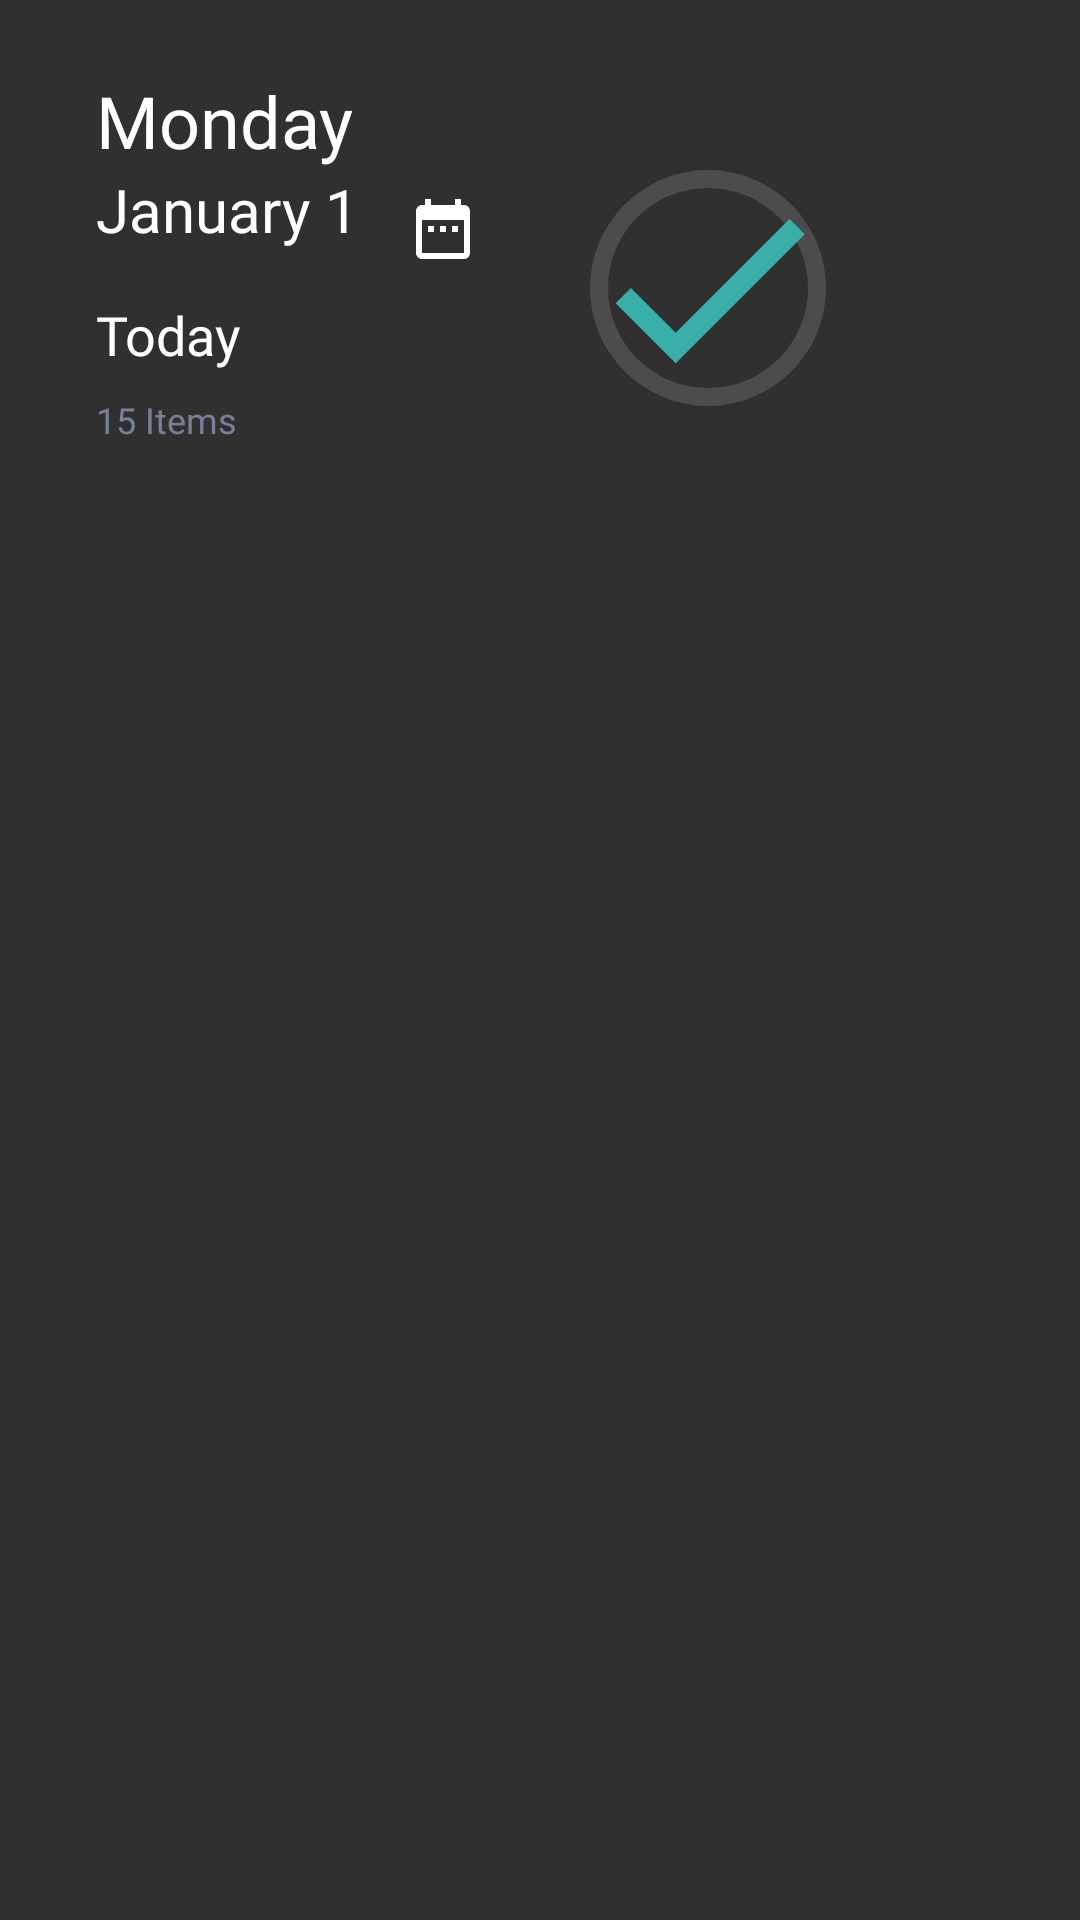

Screen size 1080*1920. Icon name, then its box in pixels as bbox=[x1, y1, x2, y2]:
module calendar: bbox=[416, 199, 470, 259]
module item check: bbox=[590, 170, 826, 406]
